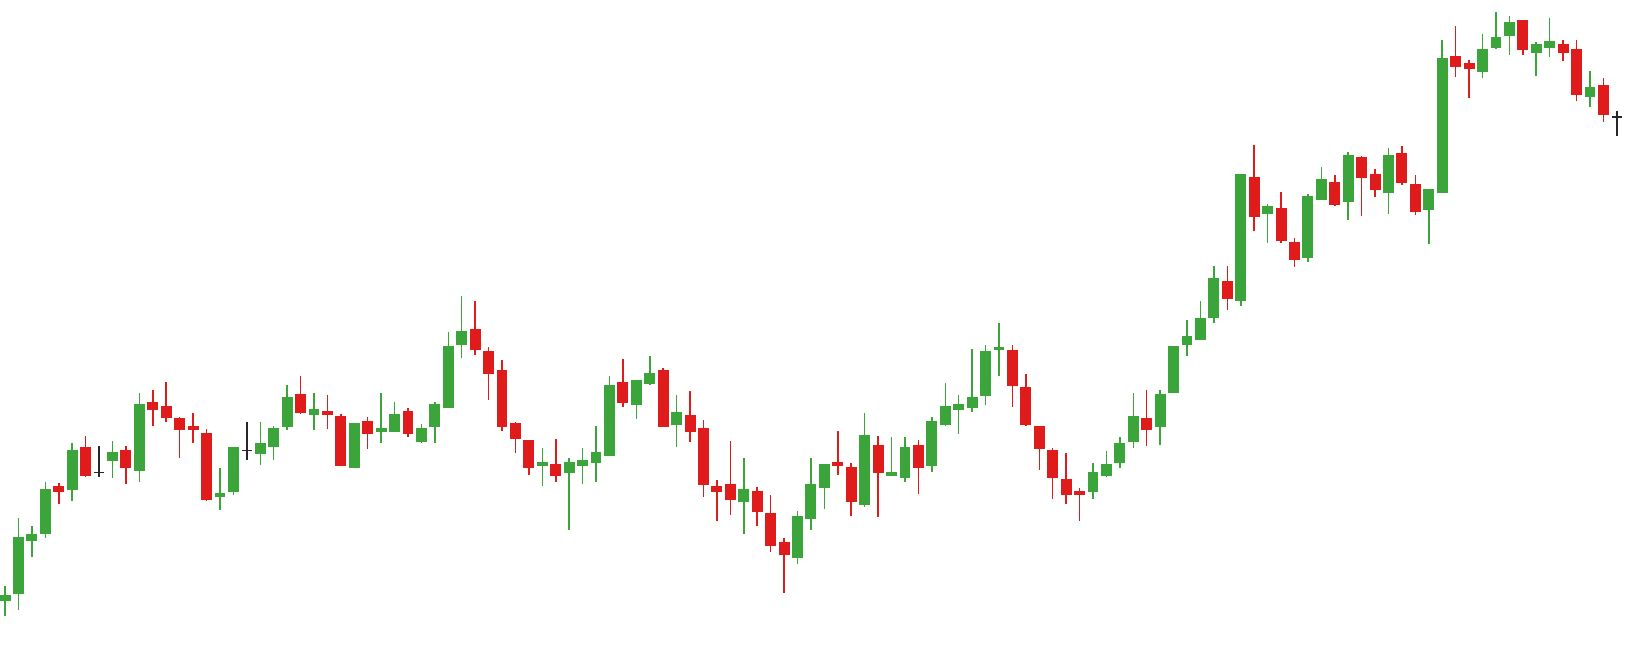buy: (912, 406, 1100, 526), (121, 417, 243, 516), (1339, 162, 1437, 249)
